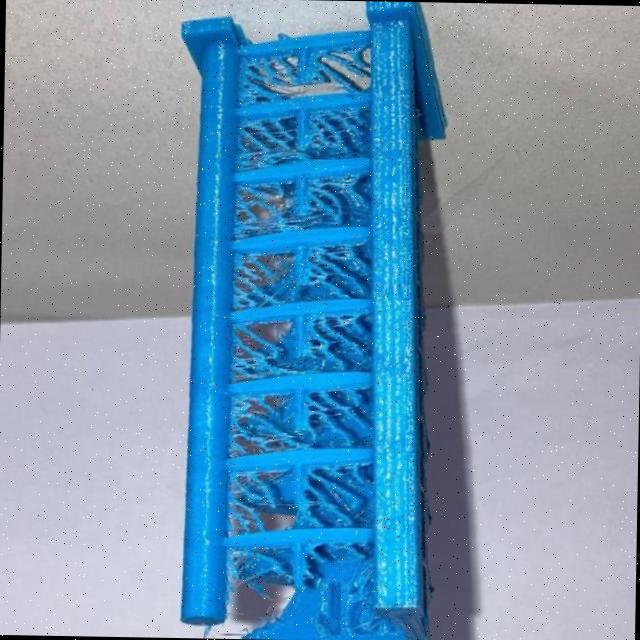stringing: (231, 388, 290, 448), (228, 259, 302, 306), (310, 246, 380, 295), (307, 470, 370, 519), (306, 388, 366, 437), (221, 476, 277, 528), (235, 117, 302, 160), (310, 318, 371, 365), (232, 180, 292, 224), (315, 48, 370, 92), (308, 118, 369, 156), (315, 173, 362, 220), (235, 328, 282, 374), (240, 59, 290, 98)
